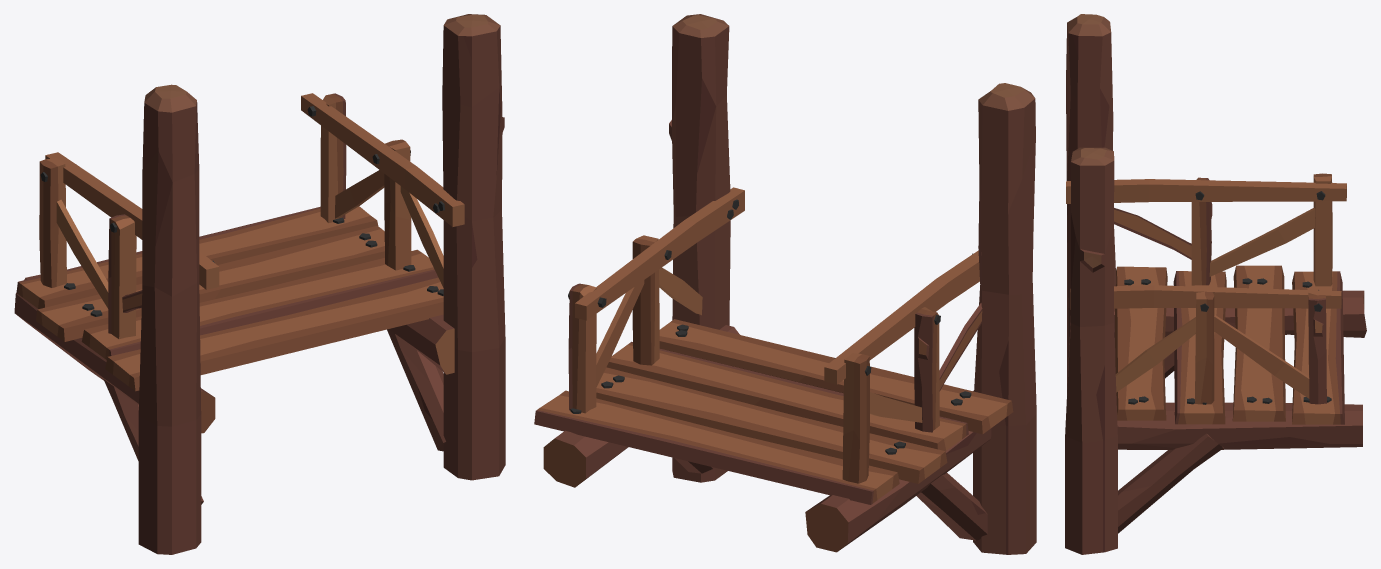
The model's file is bridge_beginning.fbx.
3 views of the same model, side by side, from view 1: azimuth 30°, elevation 25°; view 2: azimuth 150°, elevation 25°; view 3: azimuth 270°, elevation 25° (orthographic). The views are drawn at different scales.
Parts seen in each view (by area): view 1: bridge_beginning; view 2: bridge_beginning; view 3: bridge_beginning.
Part boxes in pixels (x1=…): bridge_beginning: x1=14, y1=14, x2=505, y2=554; bridge_beginning: x1=534, y1=14, x2=1036, y2=554; bridge_beginning: x1=1065, y1=14, x2=1366, y2=554.
Size of the model in its own units: 133 by 161 by 112.
